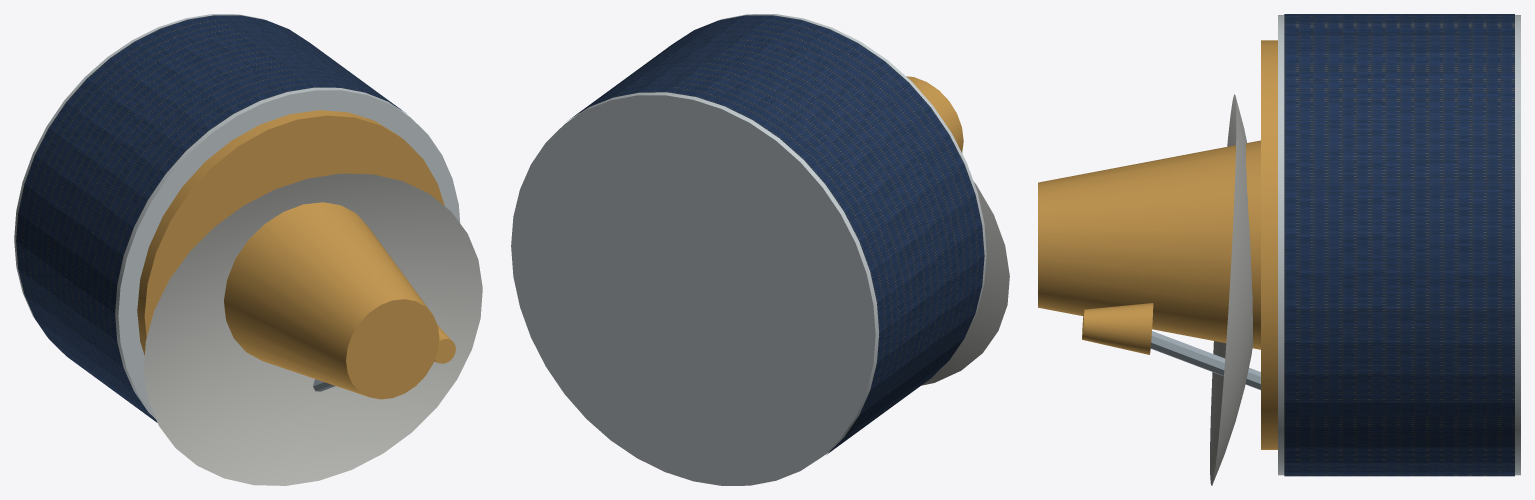
Rendered from ref-ets-2-9852.glb.
The picture shows the model from 3 angles, left to right: view 1: azimuth 30°, elevation 25°; view 2: azimuth 150°, elevation 25°; view 3: azimuth 270°, elevation 25°; orthographic projection. The views are drawn at different scales.
Visible parts, largest first — view 1: Deck-mounted reflector, Body-mounted solar cells, Axial antenna horn, Despun equipment deck, Solar drum core, Feed horn; view 2: Solar drum core, Body-mounted solar cells, Deck-mounted reflector, Axial antenna horn; view 3: Body-mounted solar cells, Axial antenna horn, Deck-mounted reflector, Despun equipment deck, Solar drum core, Feed horn, Offset feed boom.
Boxes of the visible parts, x1,y1,x2,y2 form: Deck-mounted reflector: (143,173,482,485); Body-mounted solar cells: (16,15,406,422); Axial antenna horn: (224,202,439,399); Despun equipment deck: (137,110,444,355); Solar drum core: (14,14,460,418); Feed horn: (434,326,455,363); Solar drum core: (511,14,986,485); Body-mounted solar cells: (569,15,984,454); Deck-mounted reflector: (921,181,1009,385); Axial antenna horn: (906,76,963,152); Body-mounted solar cells: (1284,14,1514,476); Axial antenna horn: (1038,140,1260,349); Deck-mounted reflector: (1210,94,1252,485); Despun equipment deck: (1261,40,1277,449); Solar drum core: (1278,15,1520,475); Feed horn: (1082,303,1153,354); Offset feed boom: (1150,331,1260,390).
Size of the model in its own units: 1.41 by 1.43 by 1.47.
Materials: 5 (1 with a texture image).
